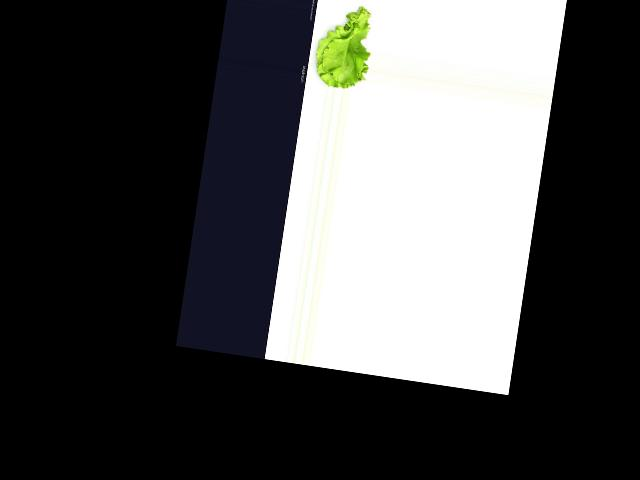lettuce: (307, 2, 377, 91)
